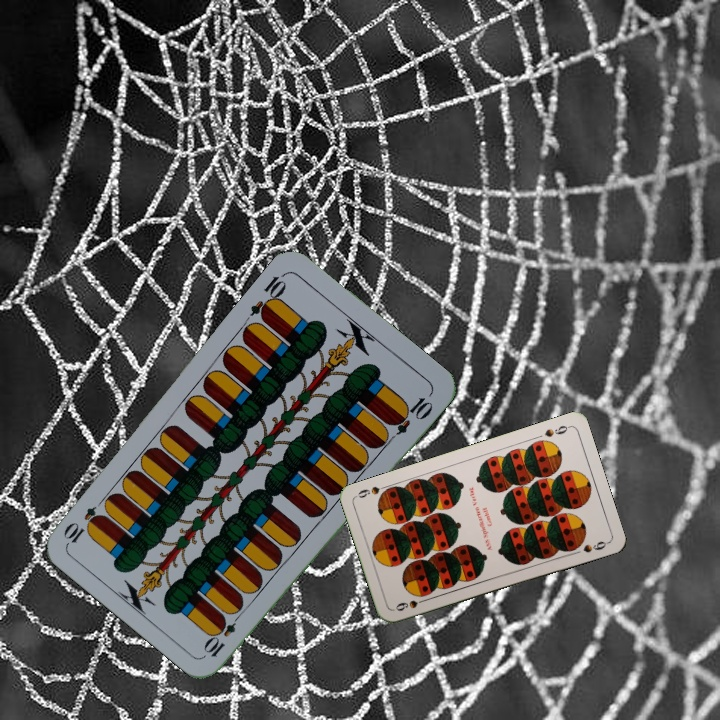E10: (246, 269, 290, 324), (201, 607, 245, 660)
S9: (391, 594, 431, 614), (540, 421, 572, 440)
